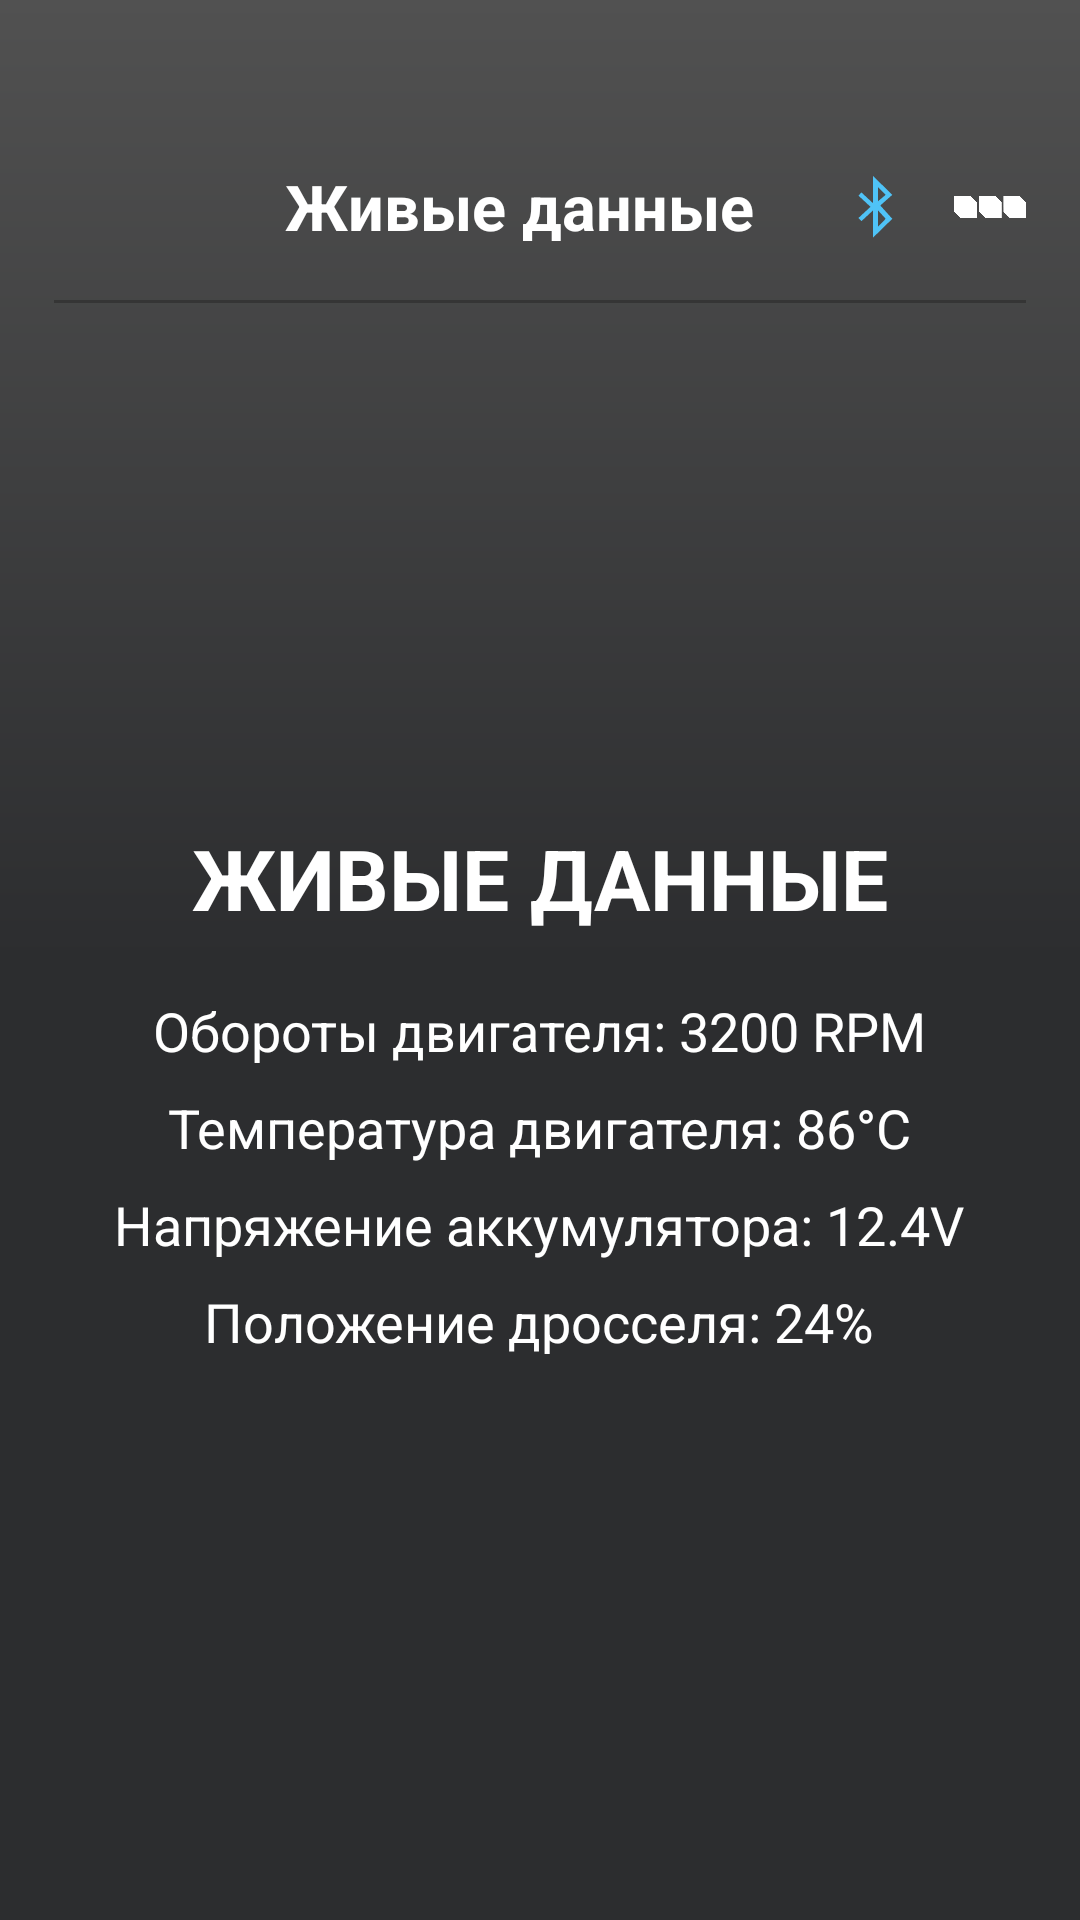

Icon bounding boxes for this 1080 × 1920 phone screenshot, format (x1, y1, x2, y2):
more dots: (954, 196, 1026, 218)
